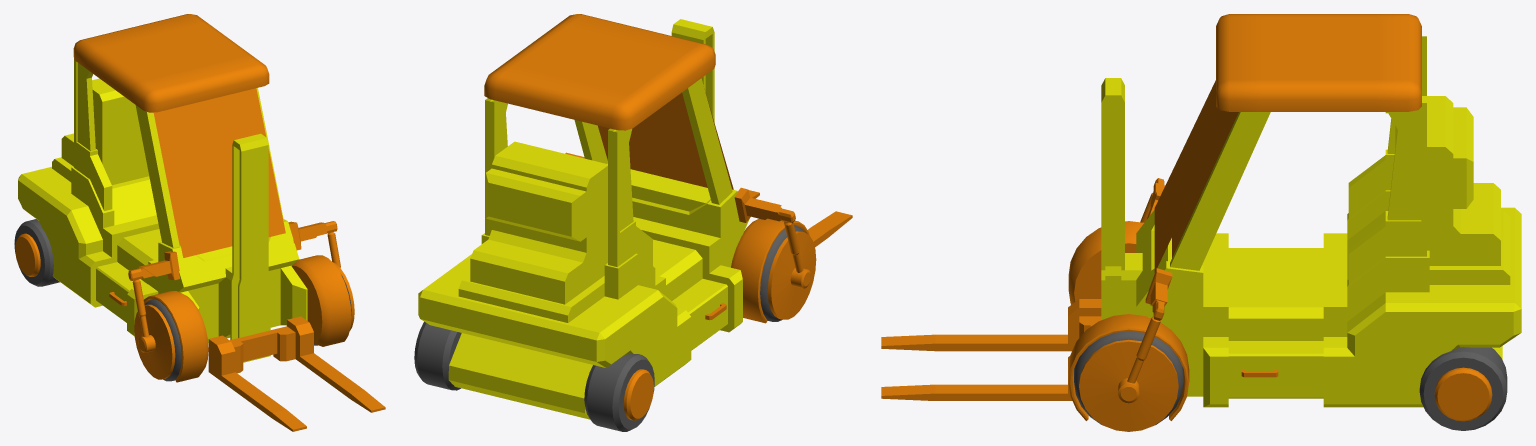
File: forklift.fbx
The picture shows the model from 3 angles, left to right: view 1: azimuth 30°, elevation 25°; view 2: azimuth 150°, elevation 25°; view 3: azimuth 270°, elevation 25°; orthographic projection. The views are drawn at different scales.
Visible parts, largest first — view 1: Default Player Main, Default Player Secondary Parts, Default Player Lift, Defualt Player Wheel BR, Defualt Player Wheel FR; view 2: Default Player Main, Default Player Secondary Parts, Defualt Player Wheel BR, Defualt Player Wheel BL, Defualt Player Wheel FR, Default Player Lift; view 3: Default Player Main, Default Player Secondary Parts, Default Player Lift, Defualt Player Wheel BL, Defualt Player Wheel FL.
Part boxes in pixels (x1=…): Default Player Main: x1=18, y1=58, x2=307, y2=362; Default Player Secondary Parts: x1=15, y1=14, x2=354, y2=382; Default Player Lift: x1=208, y1=316, x2=385, y2=431; Defualt Player Wheel BR: x1=14, y1=219, x2=59, y2=286; Defualt Player Wheel FR: x1=145, y1=299, x2=181, y2=381; Default Player Main: x1=418, y1=19, x2=749, y2=419; Default Player Secondary Parts: x1=484, y1=14, x2=816, y2=420; Defualt Player Wheel BR: x1=584, y1=354, x2=654, y2=431; Defualt Player Wheel BL: x1=414, y1=321, x2=461, y2=390; Defualt Player Wheel FR: x1=760, y1=225, x2=803, y2=321; Default Player Lift: x1=748, y1=190, x2=852, y2=247; Default Player Main: x1=1101, y1=36, x2=1521, y2=407; Default Player Secondary Parts: x1=1068, y1=14, x2=1492, y2=431; Default Player Lift: x1=881, y1=299, x2=1101, y2=400; Defualt Player Wheel BL: x1=1419, y1=347, x2=1507, y2=430; Defualt Player Wheel FL: x1=1074, y1=331, x2=1183, y2=425.
Bounding box in the file's own units: 2.27 × 2.65 × 4.67.
